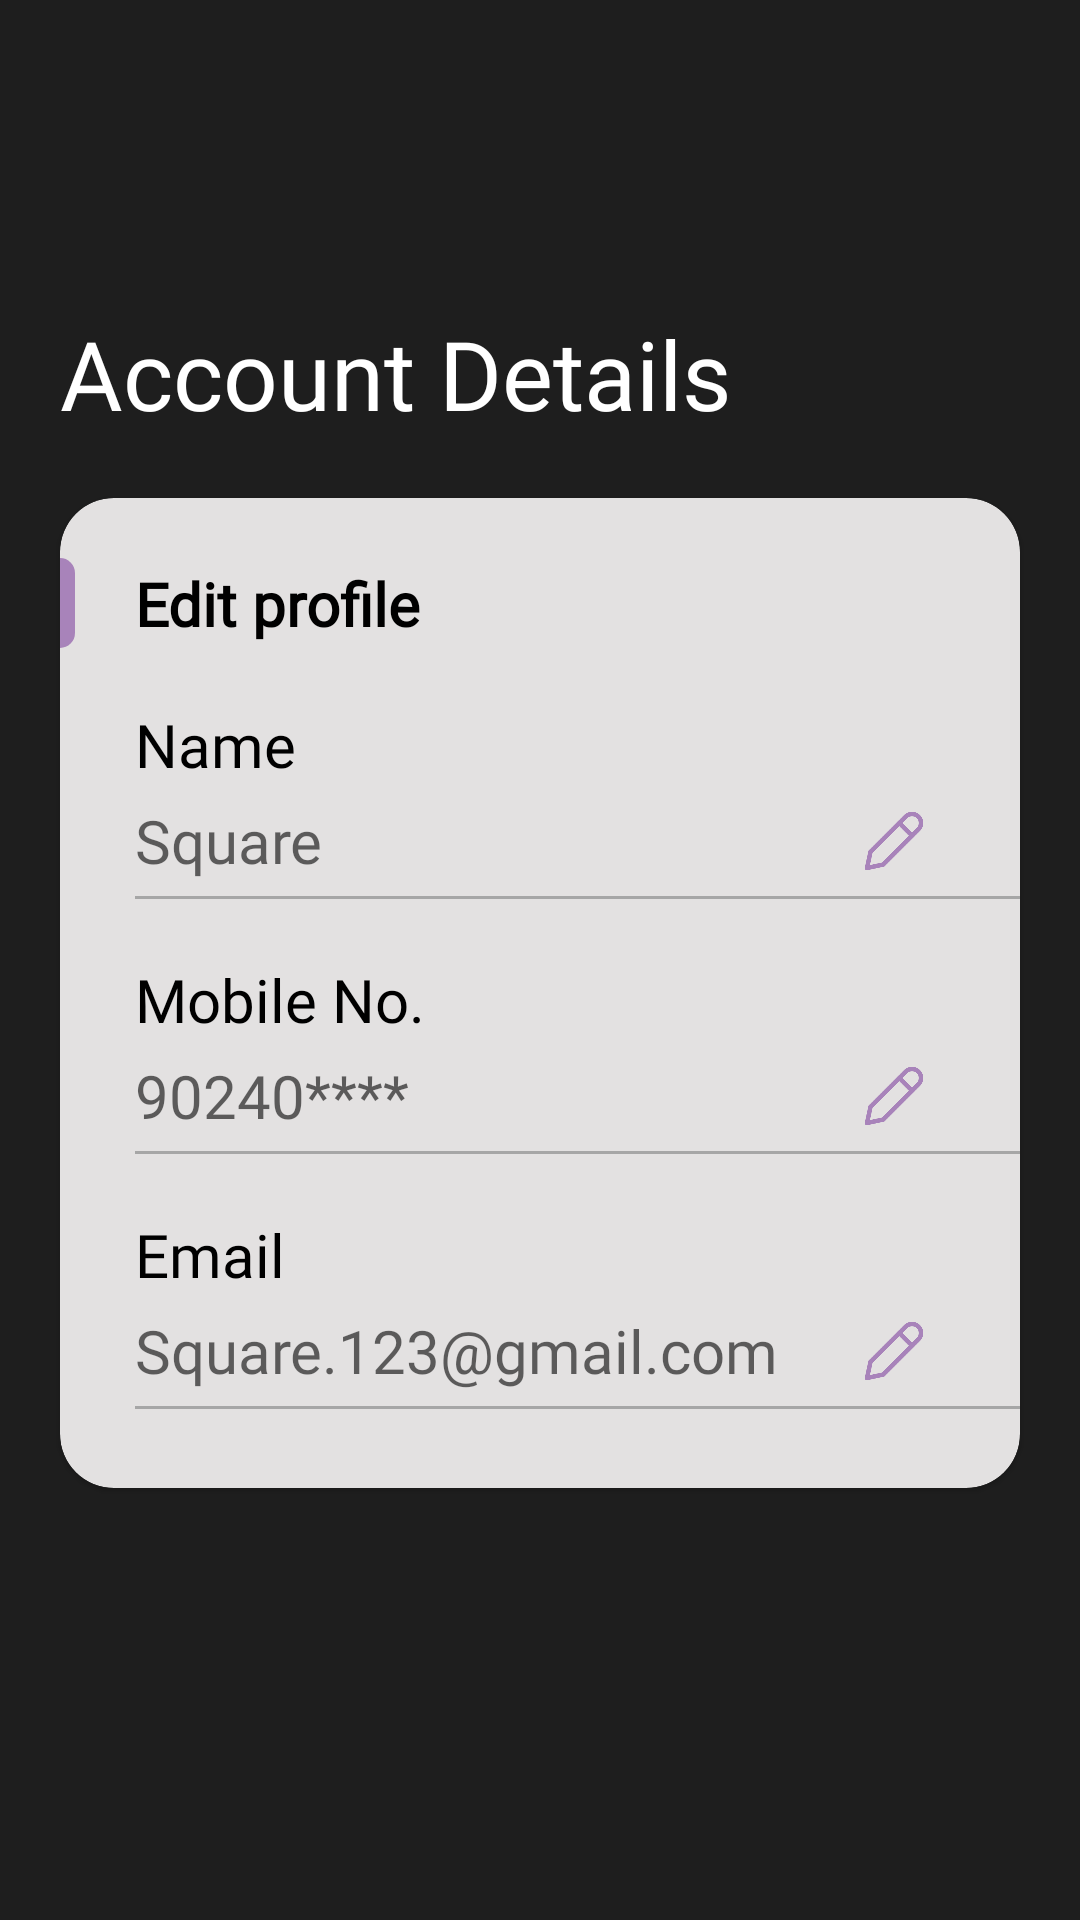

Where icons sit on this 1080×1920 app screen, as {"left": x1, "top": y1, "right": x2, "bottom": y2}:
edit: {"left": 865, "top": 812, "right": 923, "bottom": 870}, {"left": 865, "top": 1067, "right": 923, "bottom": 1125}, {"left": 865, "top": 1322, "right": 923, "bottom": 1380}
